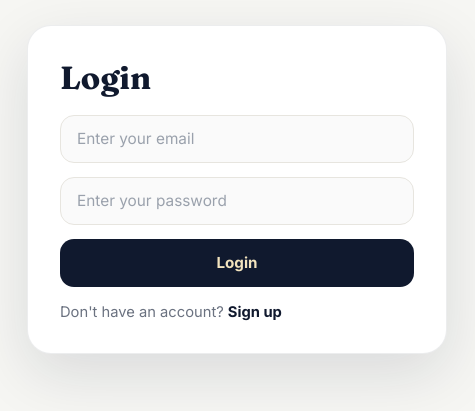
Test: Authentication › shows error on invalid credentials
The width and height of the screenshot is (475, 411).
Type "invalid@example.com" into the field with test id "login-email-input" at {"x": 237, "y": 139}, box [60, 115, 414, 163]
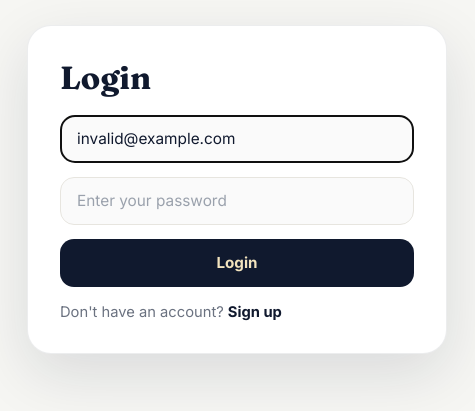
Type "wrongpassword" into the password field with test id "login-password-input" at {"x": 237, "y": 201}, box [60, 177, 414, 225]
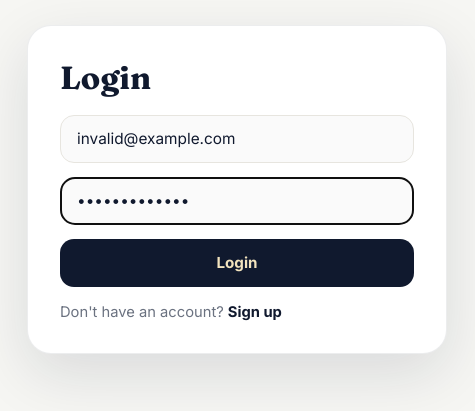
Click the button with test id "login-button" at {"x": 237, "y": 263}, box [60, 239, 414, 287]
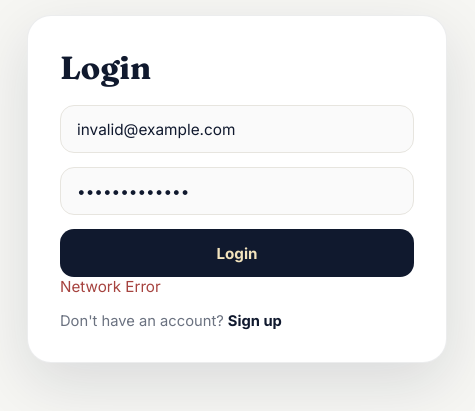
Expected: the text with test id "login-error" is shown, [60, 277, 161, 296]
